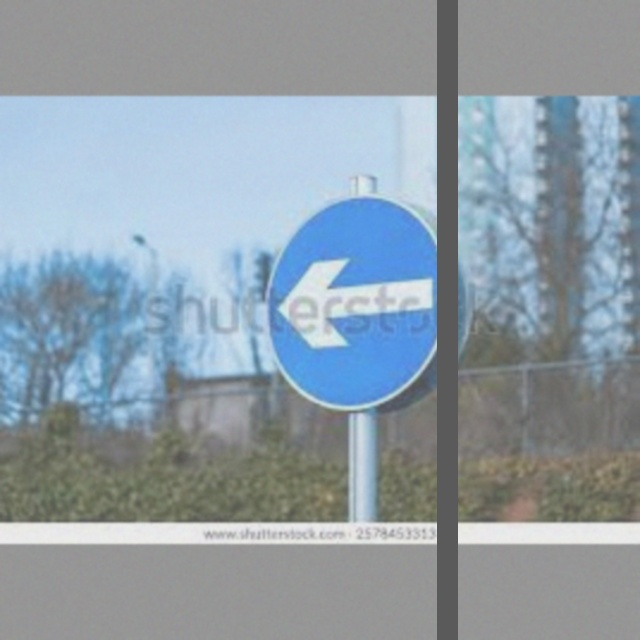Compulsory_Turn_Left: (265, 194, 463, 419)
